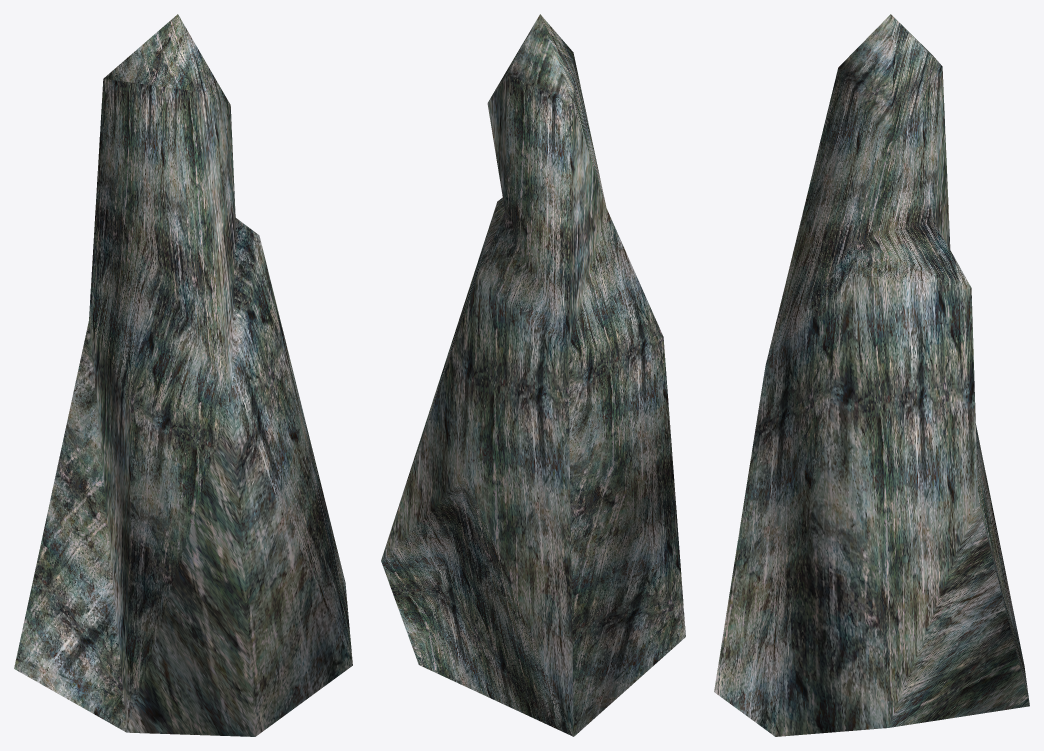
The model's file is rock_dath_desertcanyon_lg_a1_l3.fbx.
3 views of the same model, side by side, from view 1: azimuth 30°, elevation 25°; view 2: azimuth 150°, elevation 25°; view 3: azimuth 270°, elevation 25° (orthographic). The views are drawn at different scales.
Parts seen in each view (by area): view 1: mesh_node; view 2: mesh_node; view 3: mesh_node.
Boxes of the visible parts, x1,y1,x2,y2 form: mesh_node: [14, 14, 352, 736]; mesh_node: [381, 14, 685, 736]; mesh_node: [714, 14, 1029, 736].
Bounding box in the file's own units: 7.34 × 17.78 × 7.25.
